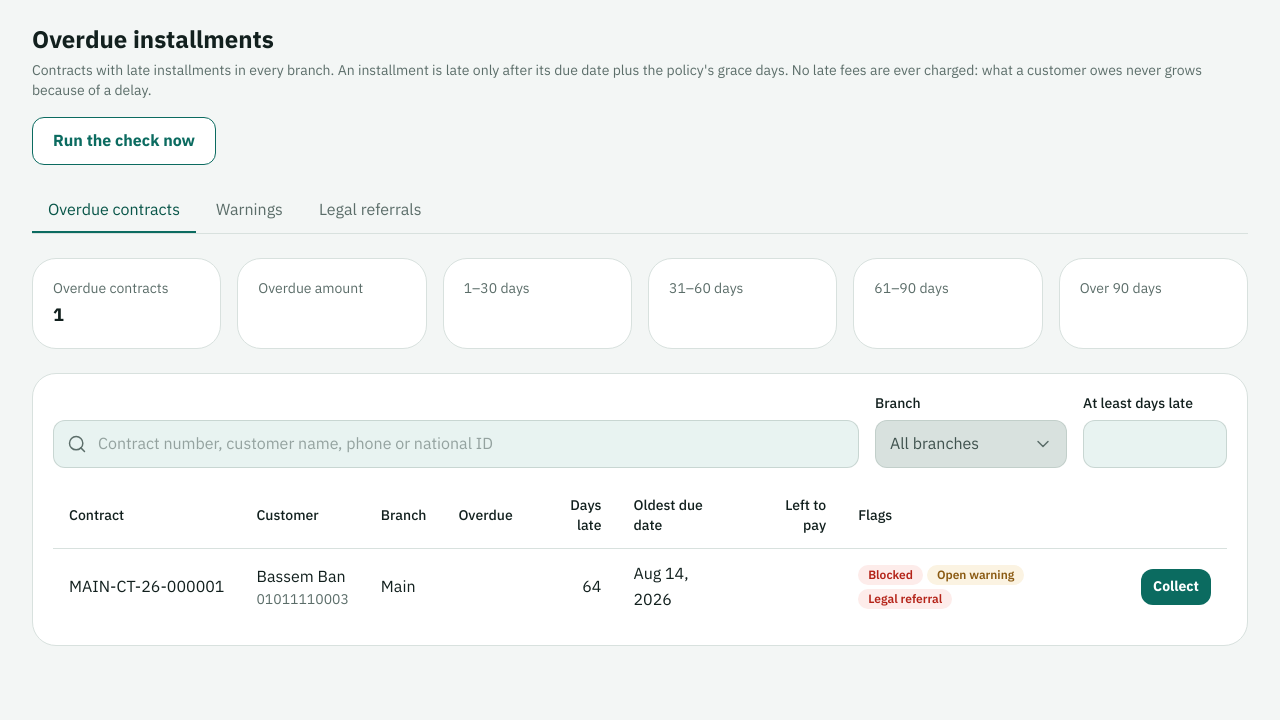
Test: N04 overdue page (owner) › runs the check now and shows what it did
The width and height of the screenshot is (1280, 720).
Click the button "Run the check now".
click(124, 141)  # box [32,117,216,165]
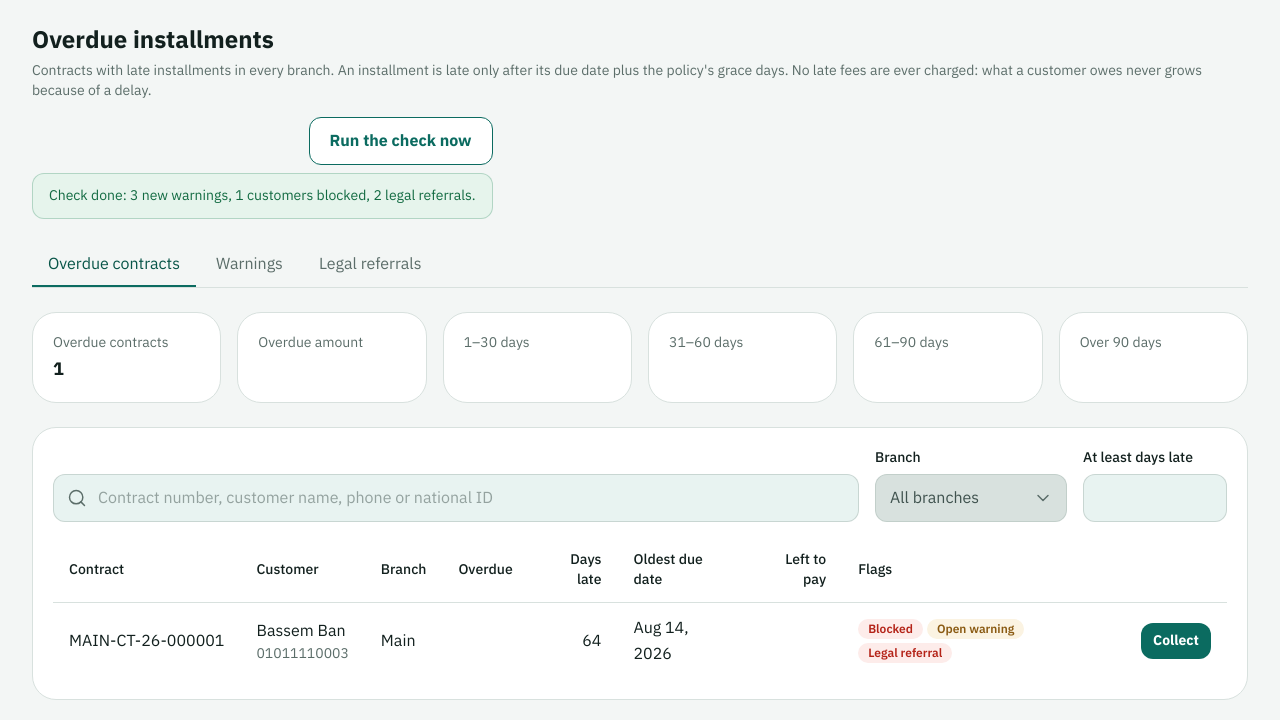
Now the text "Check done: 3 new warnings, 1 customers blocked, 2 legal referrals." is shown, box [32,173,492,219]
